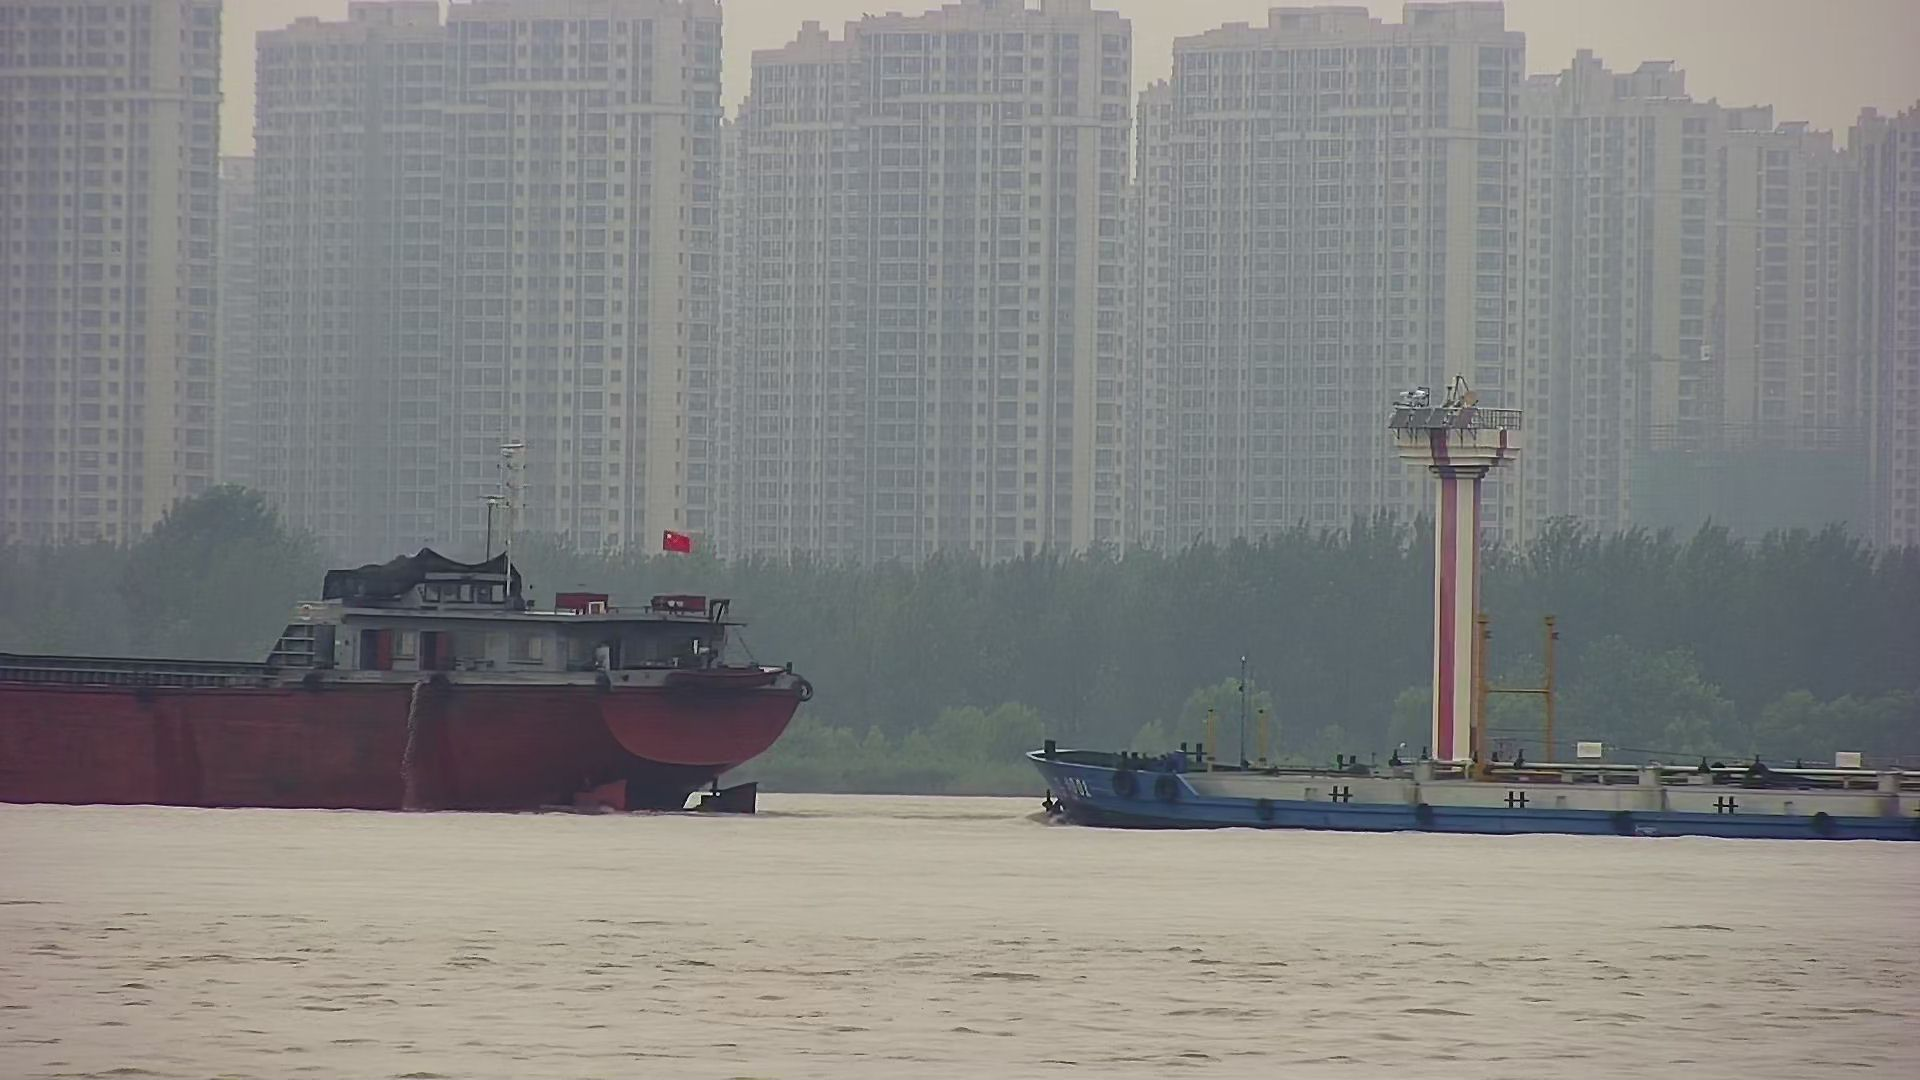platform: (1391, 375, 1514, 825)
ship: (3, 444, 818, 822), (1015, 611, 1920, 851)
